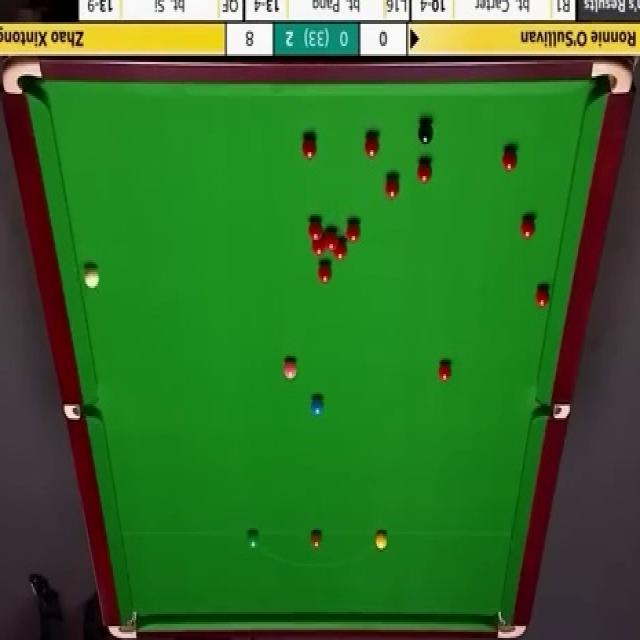black-ball: (417, 117, 433, 144)
blue-ball: (310, 395, 324, 418)
brown-ball: (310, 530, 322, 552)
green-ball: (247, 529, 260, 548)
pink-ball: (283, 359, 297, 380)
red-ball: (301, 133, 319, 160), (501, 146, 519, 173), (535, 282, 552, 308), (520, 215, 536, 242), (365, 133, 380, 159), (416, 160, 432, 184), (385, 176, 400, 200), (346, 220, 361, 243), (318, 260, 332, 284), (334, 238, 348, 262), (438, 362, 452, 383), (309, 219, 322, 240), (312, 235, 325, 255), (325, 232, 338, 251)
white-ball: (84, 264, 100, 290)
yellow-ball: (375, 529, 388, 550)
